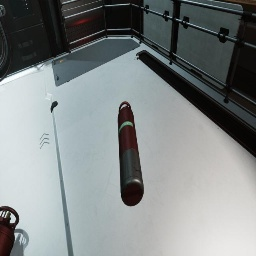NitrogenTank ,: (118, 101, 144, 206), (0, 206, 19, 256)
